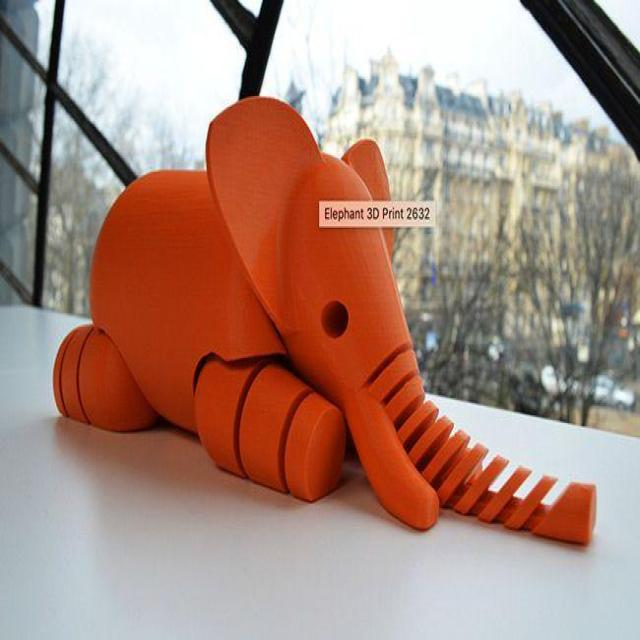Without deffect: (42, 91, 618, 558)
